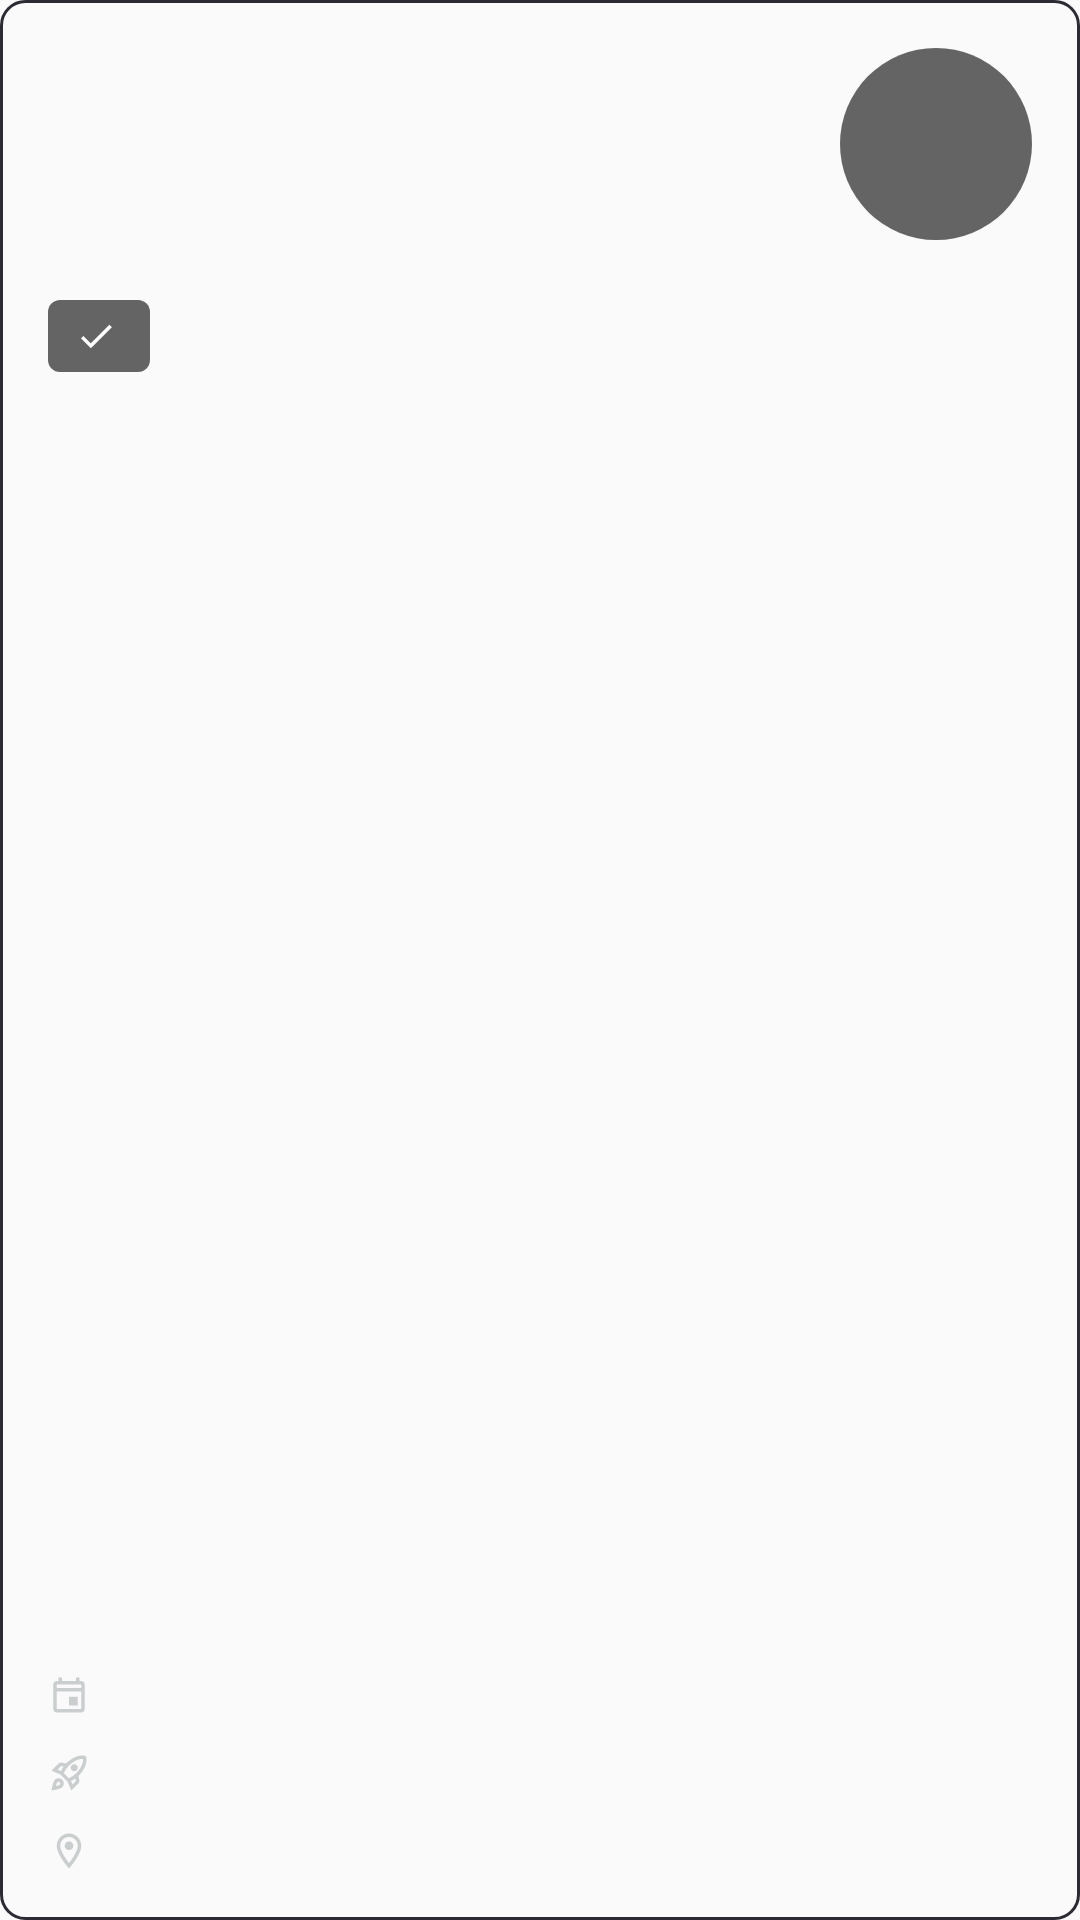

Named icons in this screenshot (1080w x 1920h) and their bounding boxes, (x1, y1, x2, y2):
calendar: (53, 1678, 85, 1712)
rocket launch: (52, 1756, 86, 1790)
room: (57, 1834, 81, 1868)
